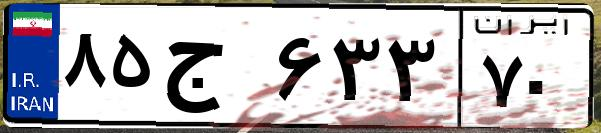0: (525, 38, 570, 115)
3: (385, 28, 445, 110), (330, 28, 385, 110)
5: (110, 28, 158, 98)
6: (270, 28, 330, 110)
7: (475, 38, 525, 113)
8: (57, 26, 110, 100)
ج: (158, 20, 270, 120)
